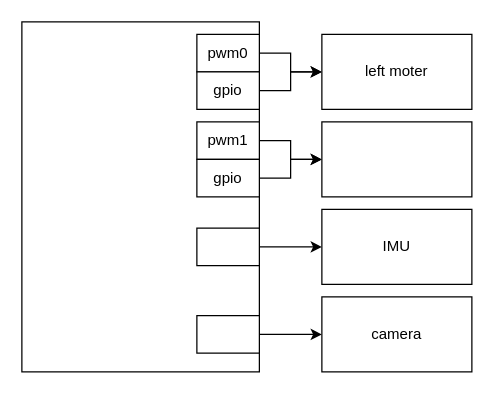
Image size: 494x394. Some labels were removed from this diagram. Each missing label, with the centre of its shape:
I2C: the point at 227,246
right moter: the point at 396,159
USB: the point at 227,333
